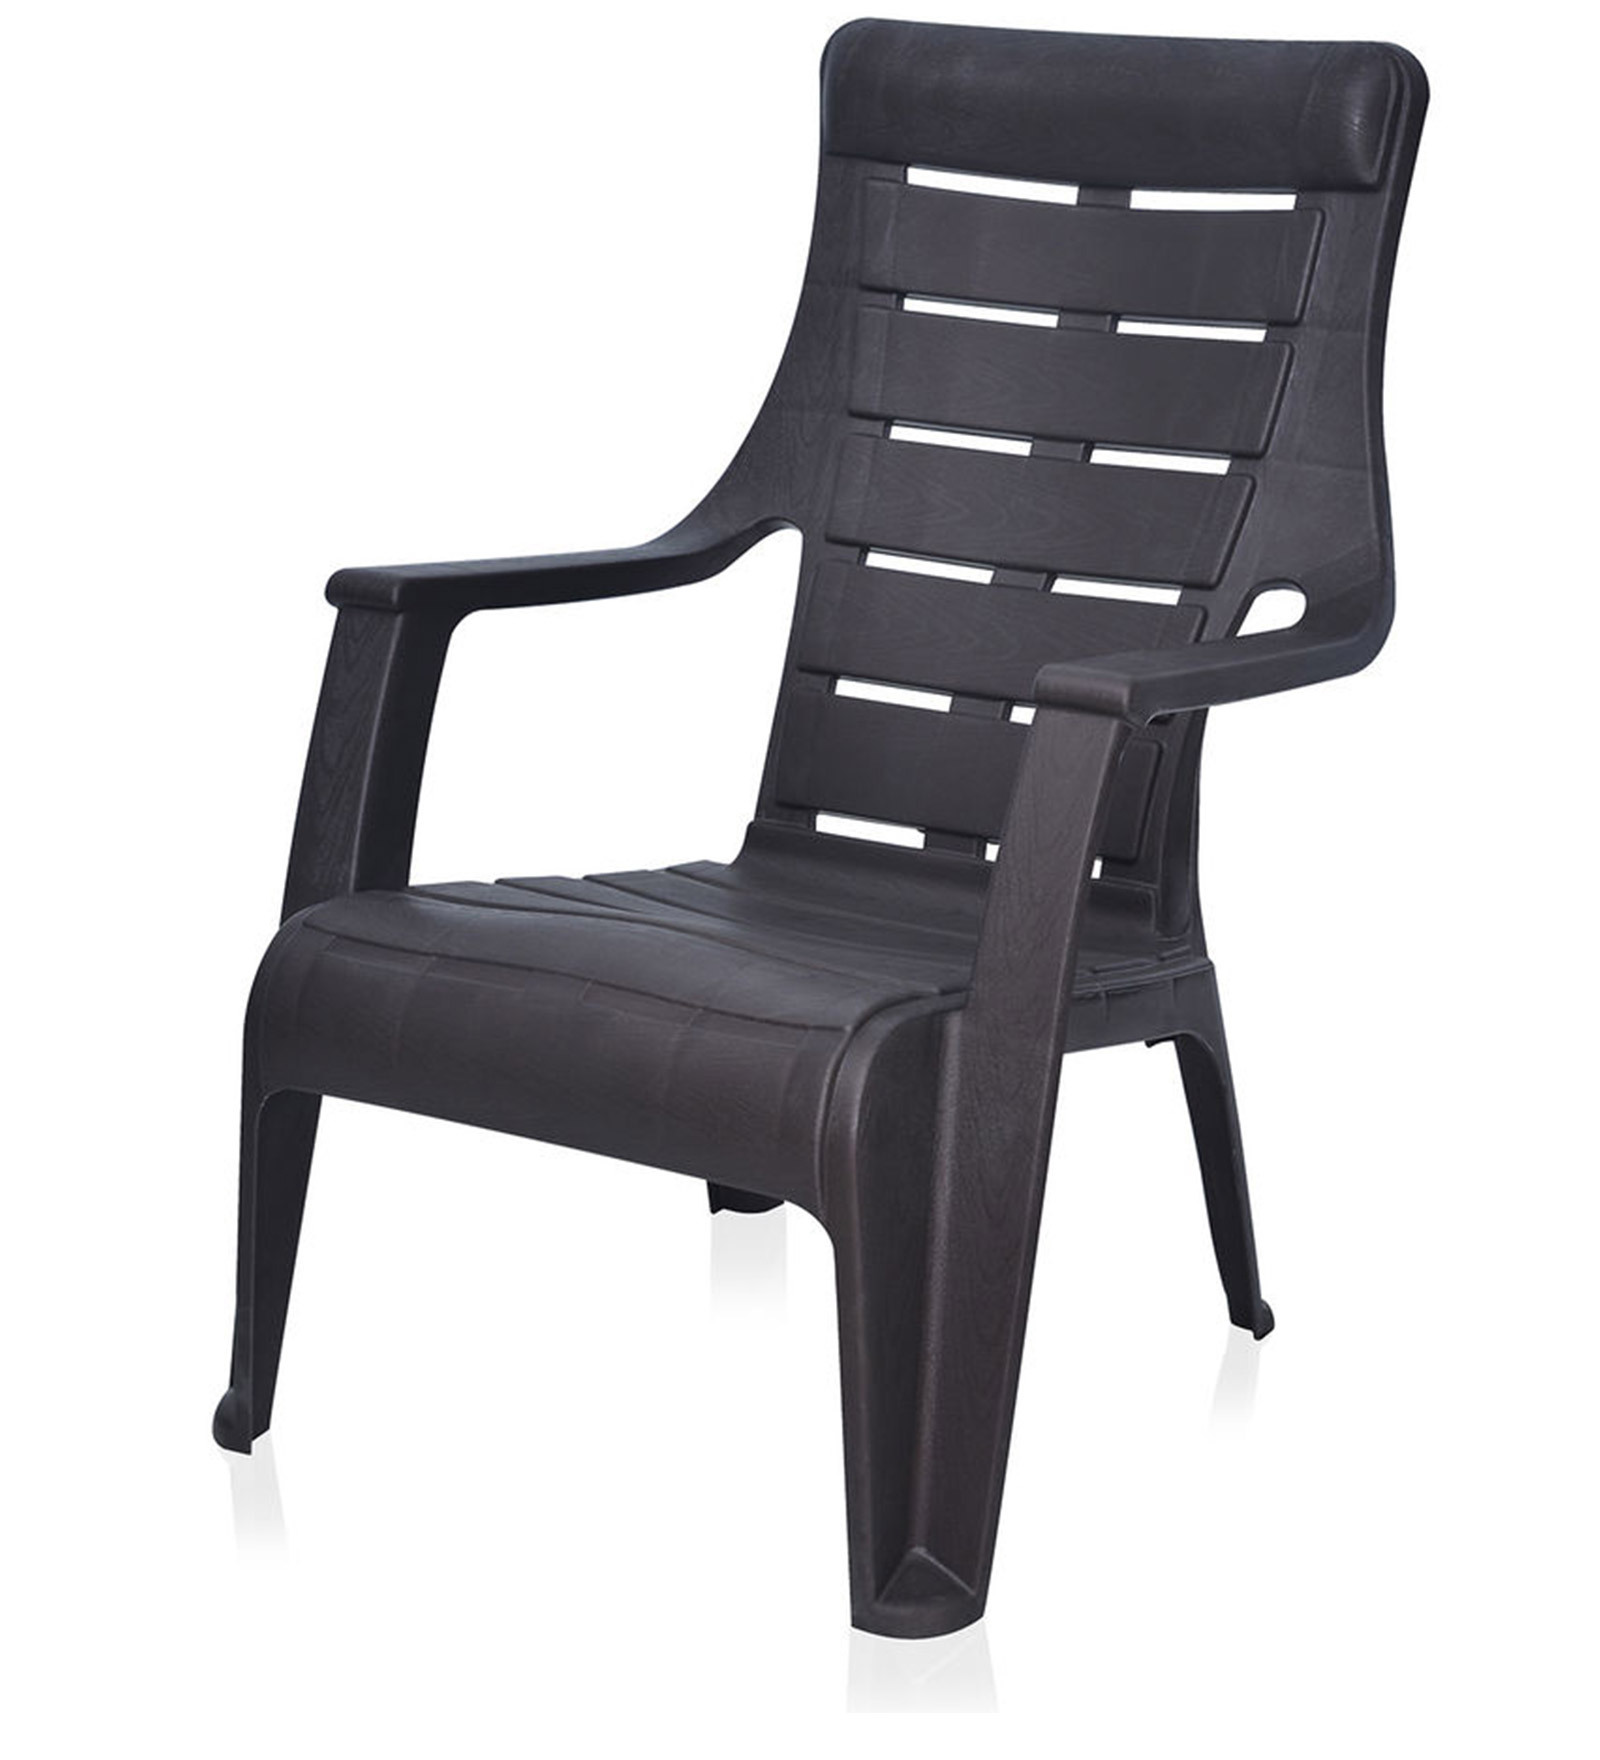Sunday Leisure Chair Set of 2 in Dark Brown Colour by Nilkamal: (113, 28, 1471, 1697)
